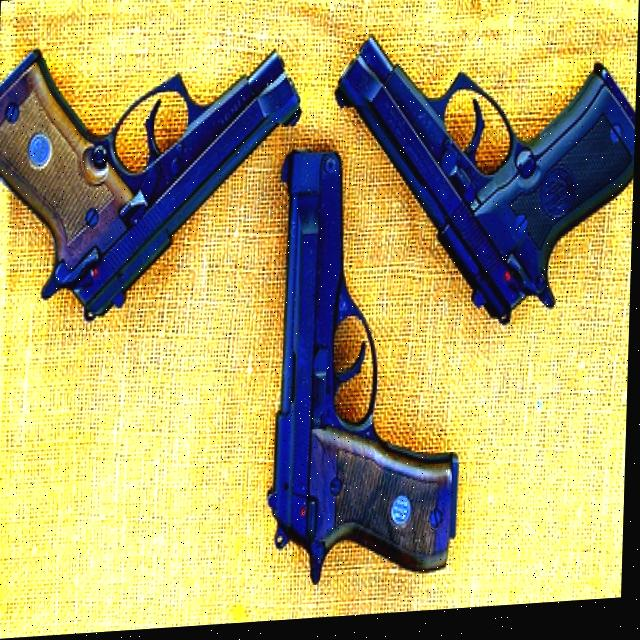pistol: (329, 24, 639, 343), (270, 144, 468, 590), (0, 40, 304, 329)
